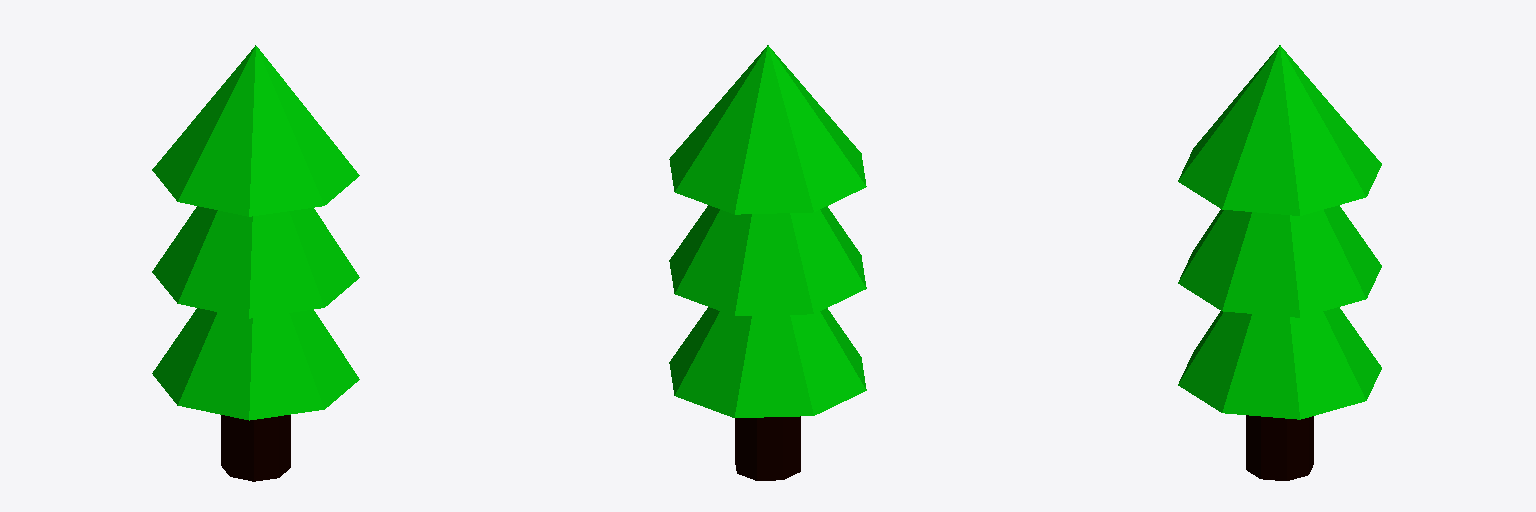
File: tree.obj
The picture shows the model from 3 angles: view 1: azimuth 30°, elevation 25°; view 2: azimuth 150°, elevation 25°; view 3: azimuth 270°, elevation 25°; orthographic projection.
Parts seen in each view (by area): view 1: Cylinder; view 2: Cylinder; view 3: Cylinder.
Boxes of the visible parts, x1,y1,x2,y2 form: Cylinder: [152, 45, 359, 481]; Cylinder: [669, 45, 866, 480]; Cylinder: [1178, 45, 1381, 480].
Size of the model in its own units: 0.1796 by 0.4092 by 0.1796.